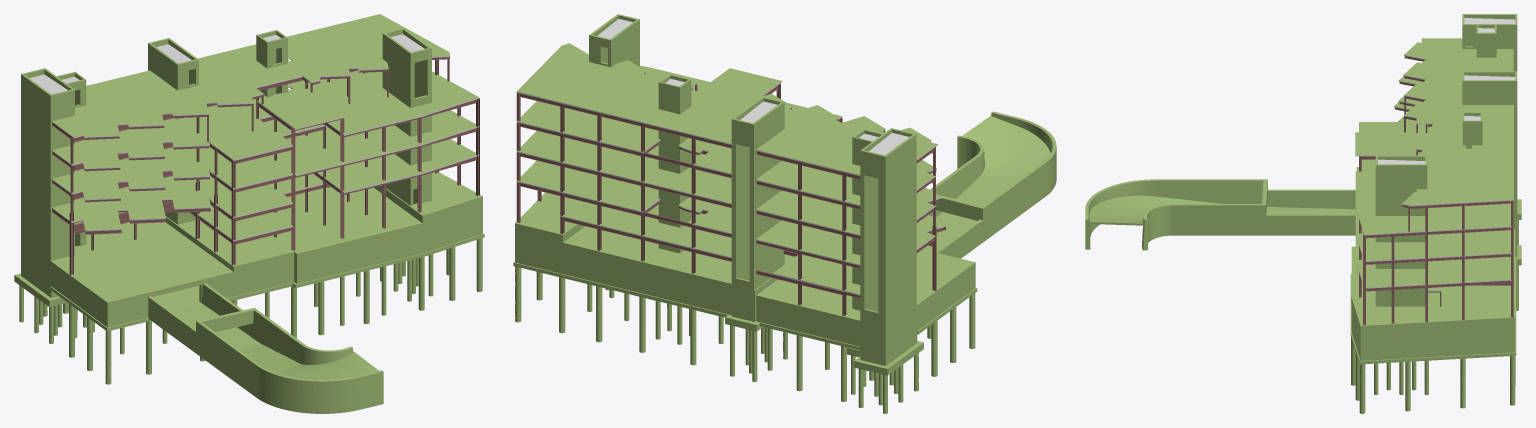
3 renders of one model, left to right at view 1: azimuth 30°, elevation 25°; view 2: azimuth 150°, elevation 25°; view 3: azimuth 270°, elevation 25°, orthographic. The views are drawn at different scales.
Bounding box in the file's own units: 56.71 × 35 × 60.44.
